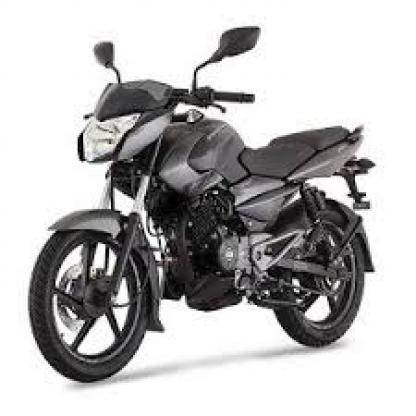Motorcycle: (28, 26, 378, 388)
